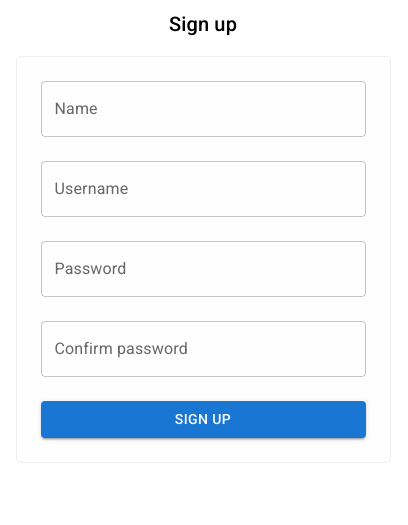
Scenario: Sign up form component › should show password must be at least 6 characters error on field when submitting with short password
This screenshot has width=408, height=525.
Step 1. Type "John Doe" into the field labelled "Name" → (203, 109), box [40,81,366,137]
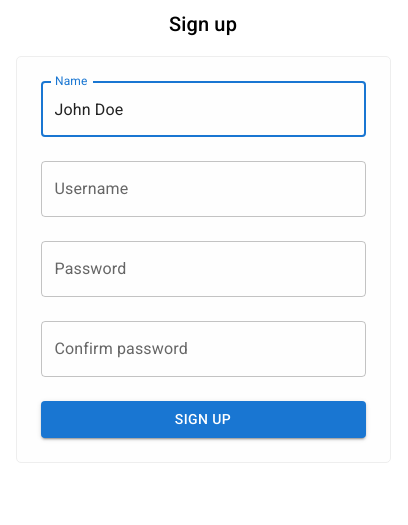
Step 2. Type "johndoe" into the field labelled "Username" → (203, 189), box [40,161,366,217]
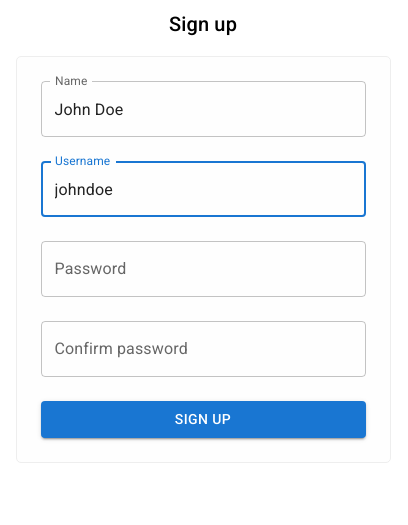
Step 3. Type "12345" into the password field labelled "Password" → (203, 269), box [40,241,366,297]
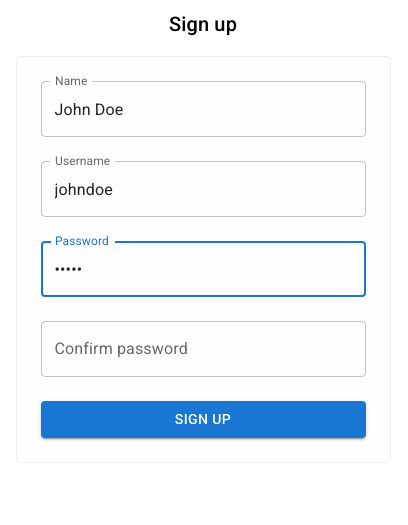
Step 4. Type "123456" into the password field labelled "Confirm password" → (203, 349), box [40,321,366,377]
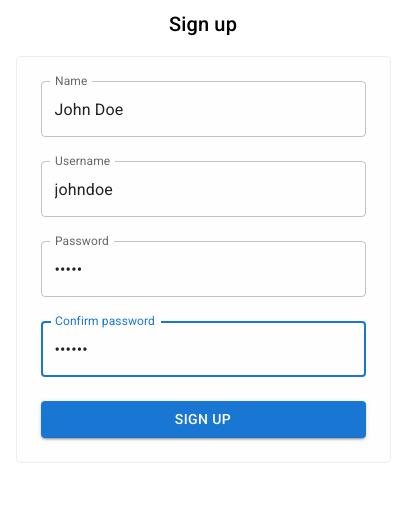
Step 5. Click the button "Sign up" → (203, 419), box [40,401,366,438]
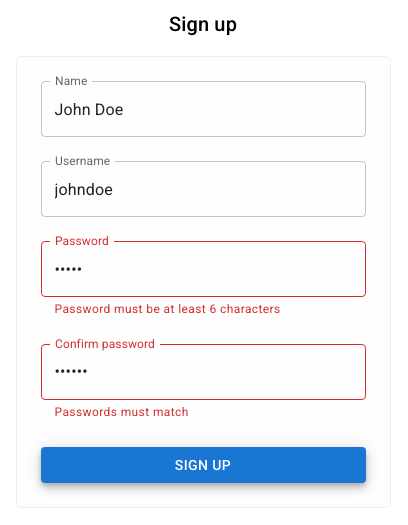
Expected: the text "Password must be at least 6 characters" is shown, [54,302,281,316]
